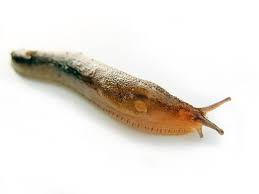slug: (10, 48, 230, 140)
